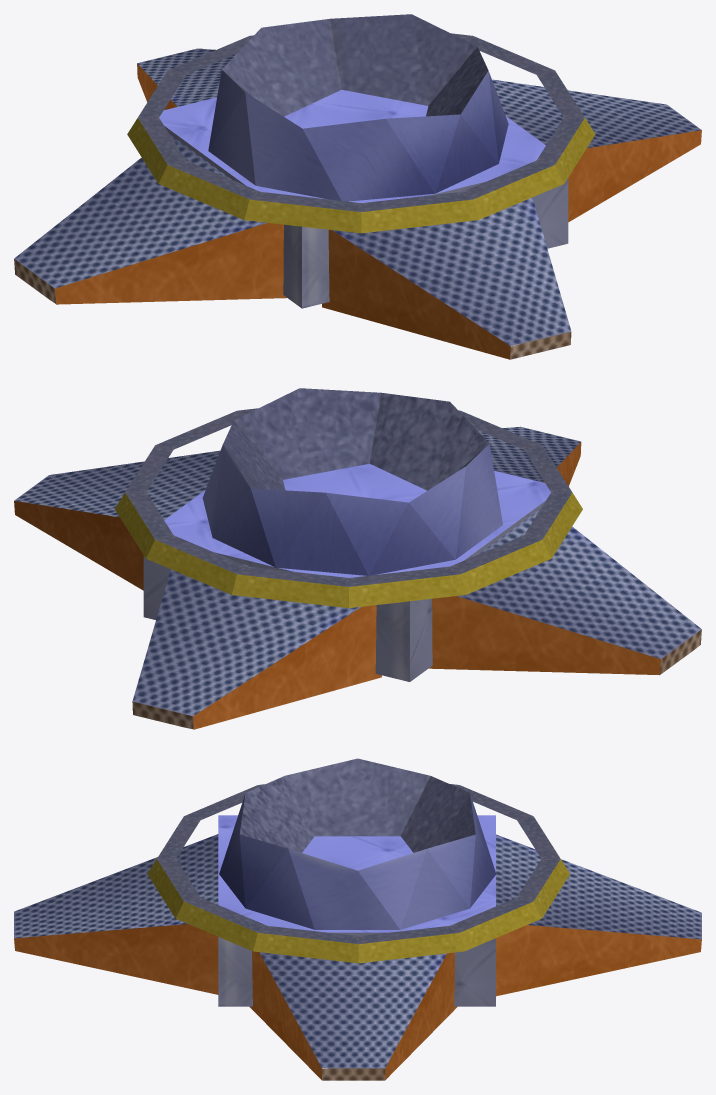
Rendered from Pod de Robôs Iris.fbx.
3 renders of one model, top to bottom at view 1: azimuth 30°, elevation 25°; view 2: azimuth 150°, elevation 25°; view 3: azimuth 270°, elevation 25°, orthographic. The views are drawn at different scales.
Parts seen in each view (by area): view 1: Cylinder.001; view 2: Cylinder.001; view 3: Cylinder.001.
Part boxes in pixels (left/top/right/bottom): Cylinder.001: left=14, top=14, right=701, bottom=359; Cylinder.001: left=14, top=388, right=701, bottom=729; Cylinder.001: left=14, top=758, right=701, bottom=1080.
Size of the model in its own units: 488 by 117 by 496.
